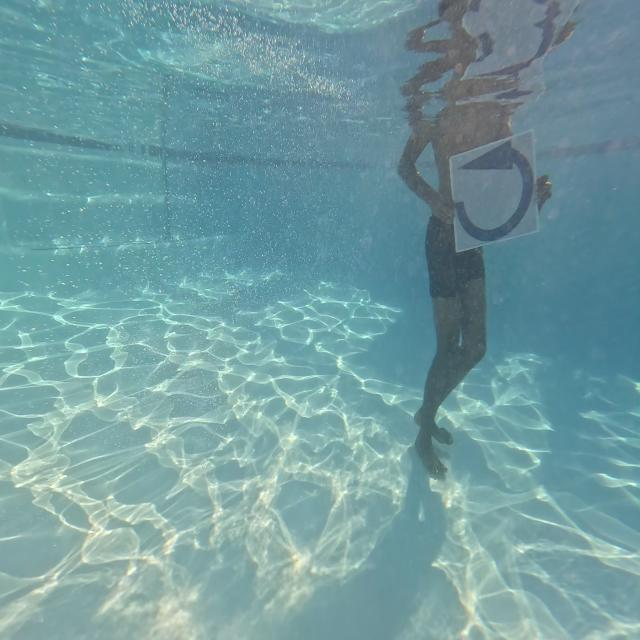blue_side: (451, 130, 538, 250)
